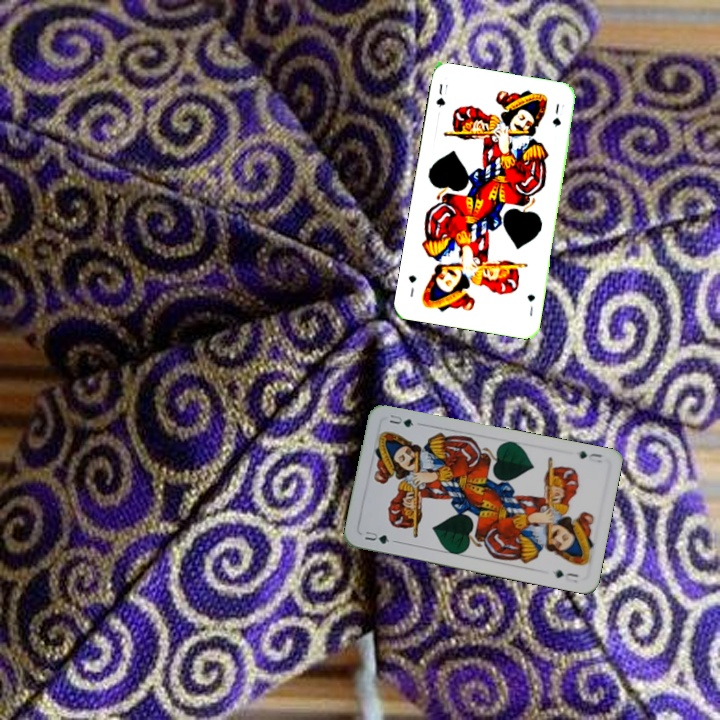GU: (361, 527, 392, 547), (575, 447, 605, 465), (432, 80, 450, 110), (523, 290, 538, 319)
